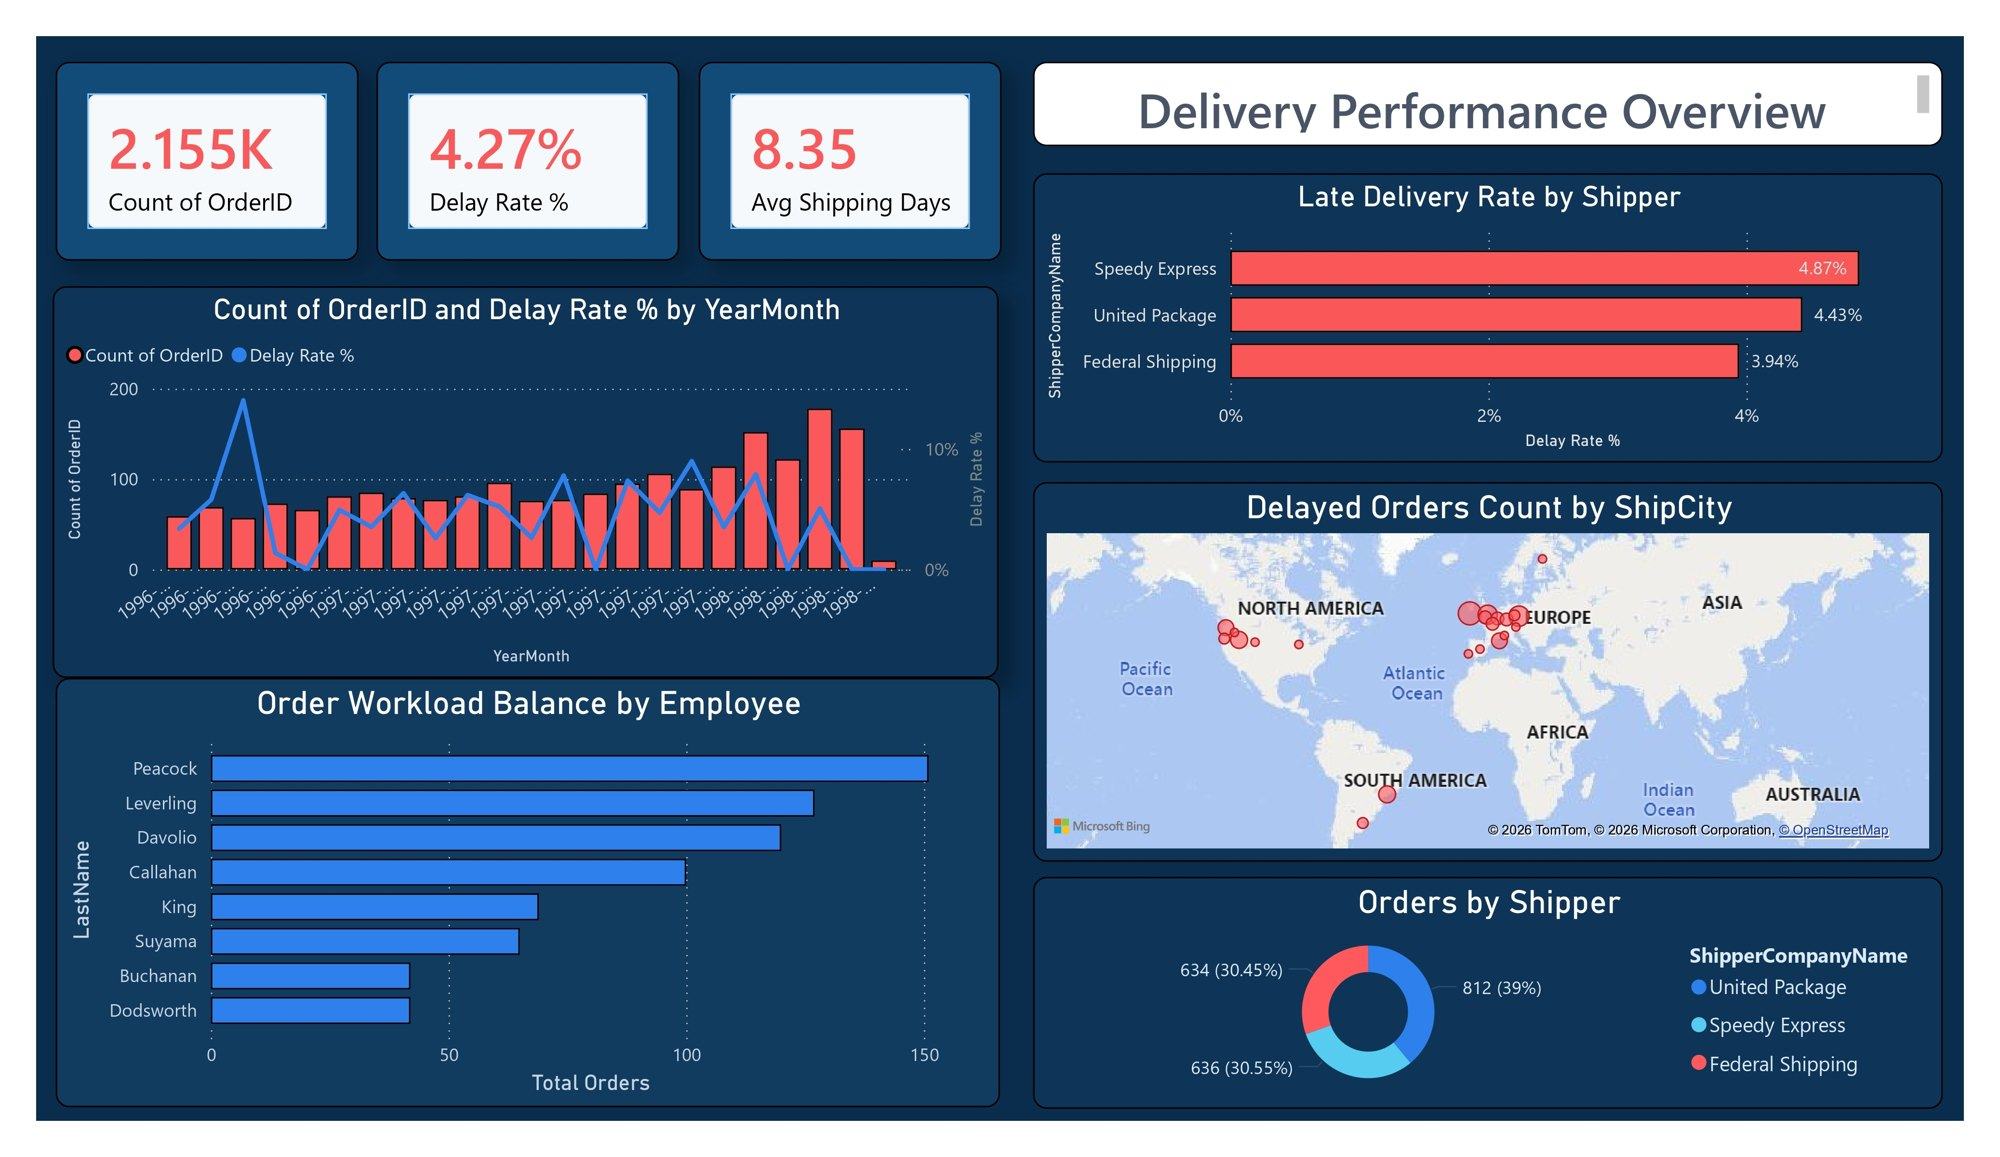

This screenshot's page, from the dashboard's own definition file:
{"tool":"powerbi","page":{"name":"Logistics & Shipping Analysis","canvas":[1280,720],"ordinal":5},"visuals":[{"type":"cardVisual","fields":{"Data":["CountNonNull(FactSales.OrderID)"]},"box":[12.9,17.1,201,131.4],"z":0},{"type":"lineClusteredColumnComboChart","fields":{"Category":["DimDate.YearMonth"],"Y":["CountNonNull(FactSales.OrderID)"],"Y2":["FactSales.Delay Rate %"]},"box":[11.4,165.7,627.1,260],"z":1000},{"type":"donutChart","title":"Orders by Shipper","fields":{"Y":["CountNonNull(FactSales.OrderID)"],"Category":["DimShipper.ShipperCompanyName"]},"box":[662.2,557.8,603.3,154.4],"z":2000},{"type":"map","fields":{"Category":["FactSales.ShipCity"],"Size":["FactSales.Delayed Orders Count"]},"box":[662.2,295.6,603.3,252.2],"z":3000},{"type":"clusteredBarChart","title":"Order Workload Balance by Employee","fields":{"Category":["DimEmployee.LastName"],"Y":["_Measures.Total Orders"]},"box":[12.5,426.2,627.5,285],"z":4000},{"type":"cardVisual","fields":{"Data":["FactSales.Delay Rate %"]},"box":[225.7,17.1,201,131.4],"z":5000},{"type":"cardVisual","fields":{"Data":["FactSales.Avg Shipping Days"]},"box":[440,17.1,201,131.4],"z":6000},{"type":"textbox","box":[662.2,16.7,603.3,56.7],"z":7000},{"type":"clusteredBarChart","title":"Late Delivery Rate by Shipper","fields":{"Category":["DimShipper.ShipperCompanyName"],"Y":["FactSales.Delay Rate %"]},"box":[662.2,91.1,603.3,192.2],"z":8000}]}

Visuals, with their boxes in screenshot pixels (x1, y1, x2, y2), scaled from the page's 1280x720 canvas onto the 2000x1157 screenshot:
cardVisual - CountNonNull(FactSales.OrderID): pyautogui.locateOnScreen(20, 27, 334, 239)
lineClusteredColumnComboChart - DimDate.YearMonth x CountNonNull(FactSales.OrderID): pyautogui.locateOnScreen(18, 266, 998, 684)
"Orders by Shipper" donutChart: pyautogui.locateOnScreen(1035, 896, 1977, 1144)
map - FactSales.ShipCity x FactSales.Delayed Orders Count: pyautogui.locateOnScreen(1035, 475, 1977, 880)
"Order Workload Balance by Employee" clusteredBarChart: pyautogui.locateOnScreen(20, 685, 1000, 1143)
cardVisual - FactSales.Delay Rate %: pyautogui.locateOnScreen(353, 27, 667, 239)
cardVisual - FactSales.Avg Shipping Days: pyautogui.locateOnScreen(688, 27, 1002, 239)
textbox: pyautogui.locateOnScreen(1035, 27, 1977, 118)
"Late Delivery Rate by Shipper" clusteredBarChart: pyautogui.locateOnScreen(1035, 146, 1977, 455)
